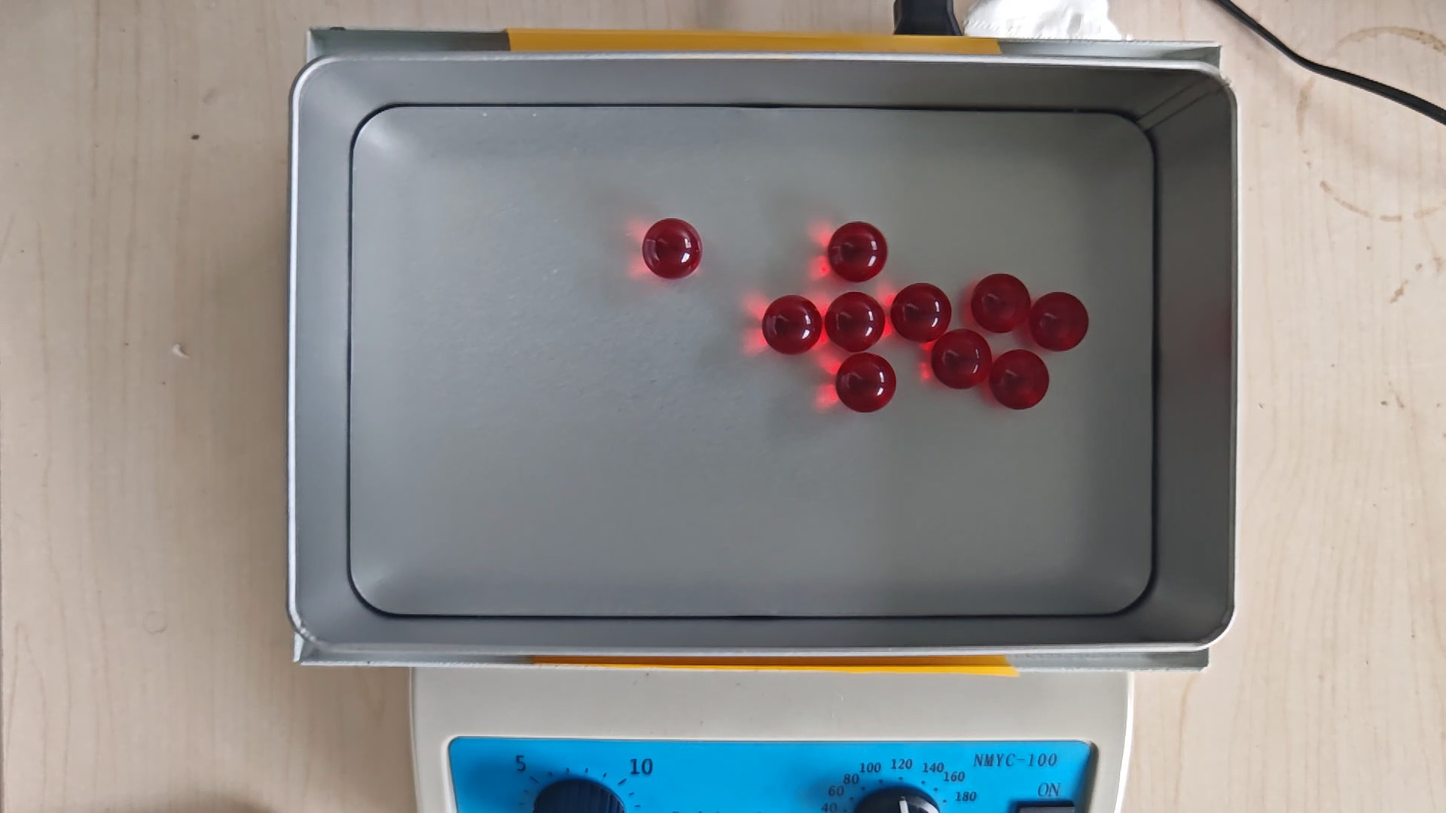ball: (836, 352, 897, 415), (643, 217, 703, 280), (762, 295, 821, 357), (892, 282, 952, 342), (933, 330, 992, 391), (828, 221, 886, 283), (827, 291, 886, 351), (992, 349, 1050, 410), (972, 272, 1030, 333), (1031, 291, 1089, 351)
container: (343, 99, 1160, 618)
